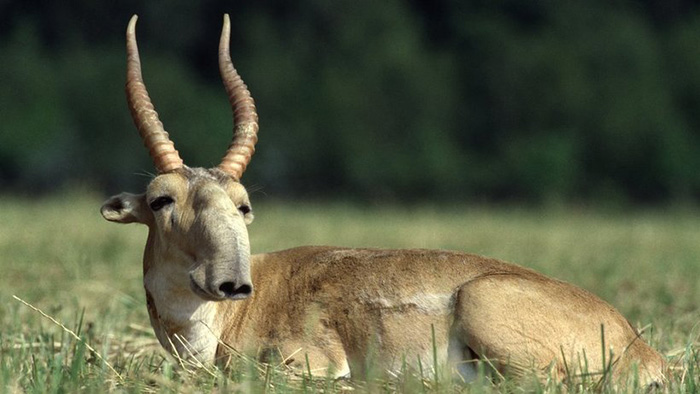saiga: (92, 12, 677, 387)
